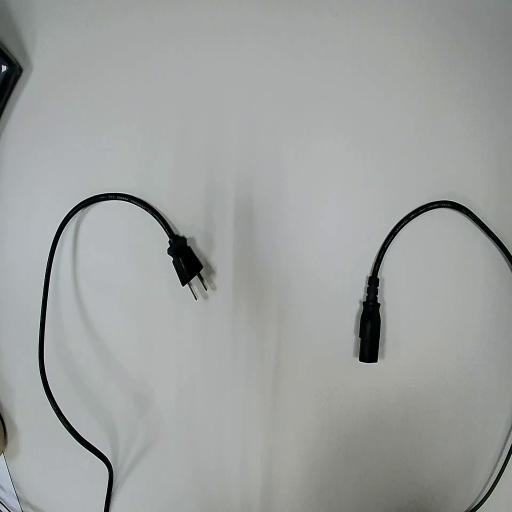wire: (39, 194, 202, 511), (359, 201, 511, 361)
